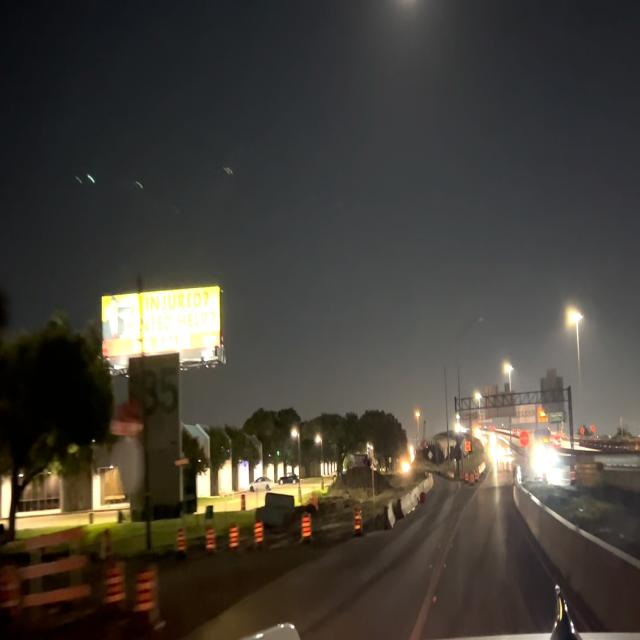back-of-sign: (538, 365, 569, 422), (485, 376, 521, 424)
